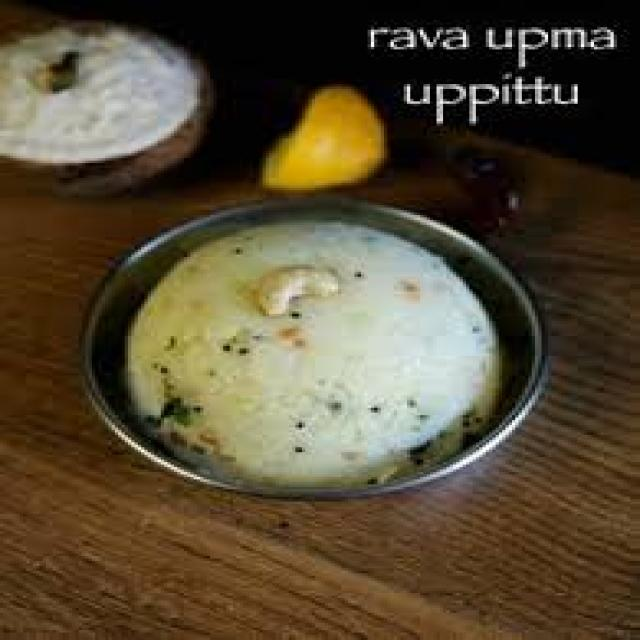RICE BHAKRI: (118, 220, 499, 487)
